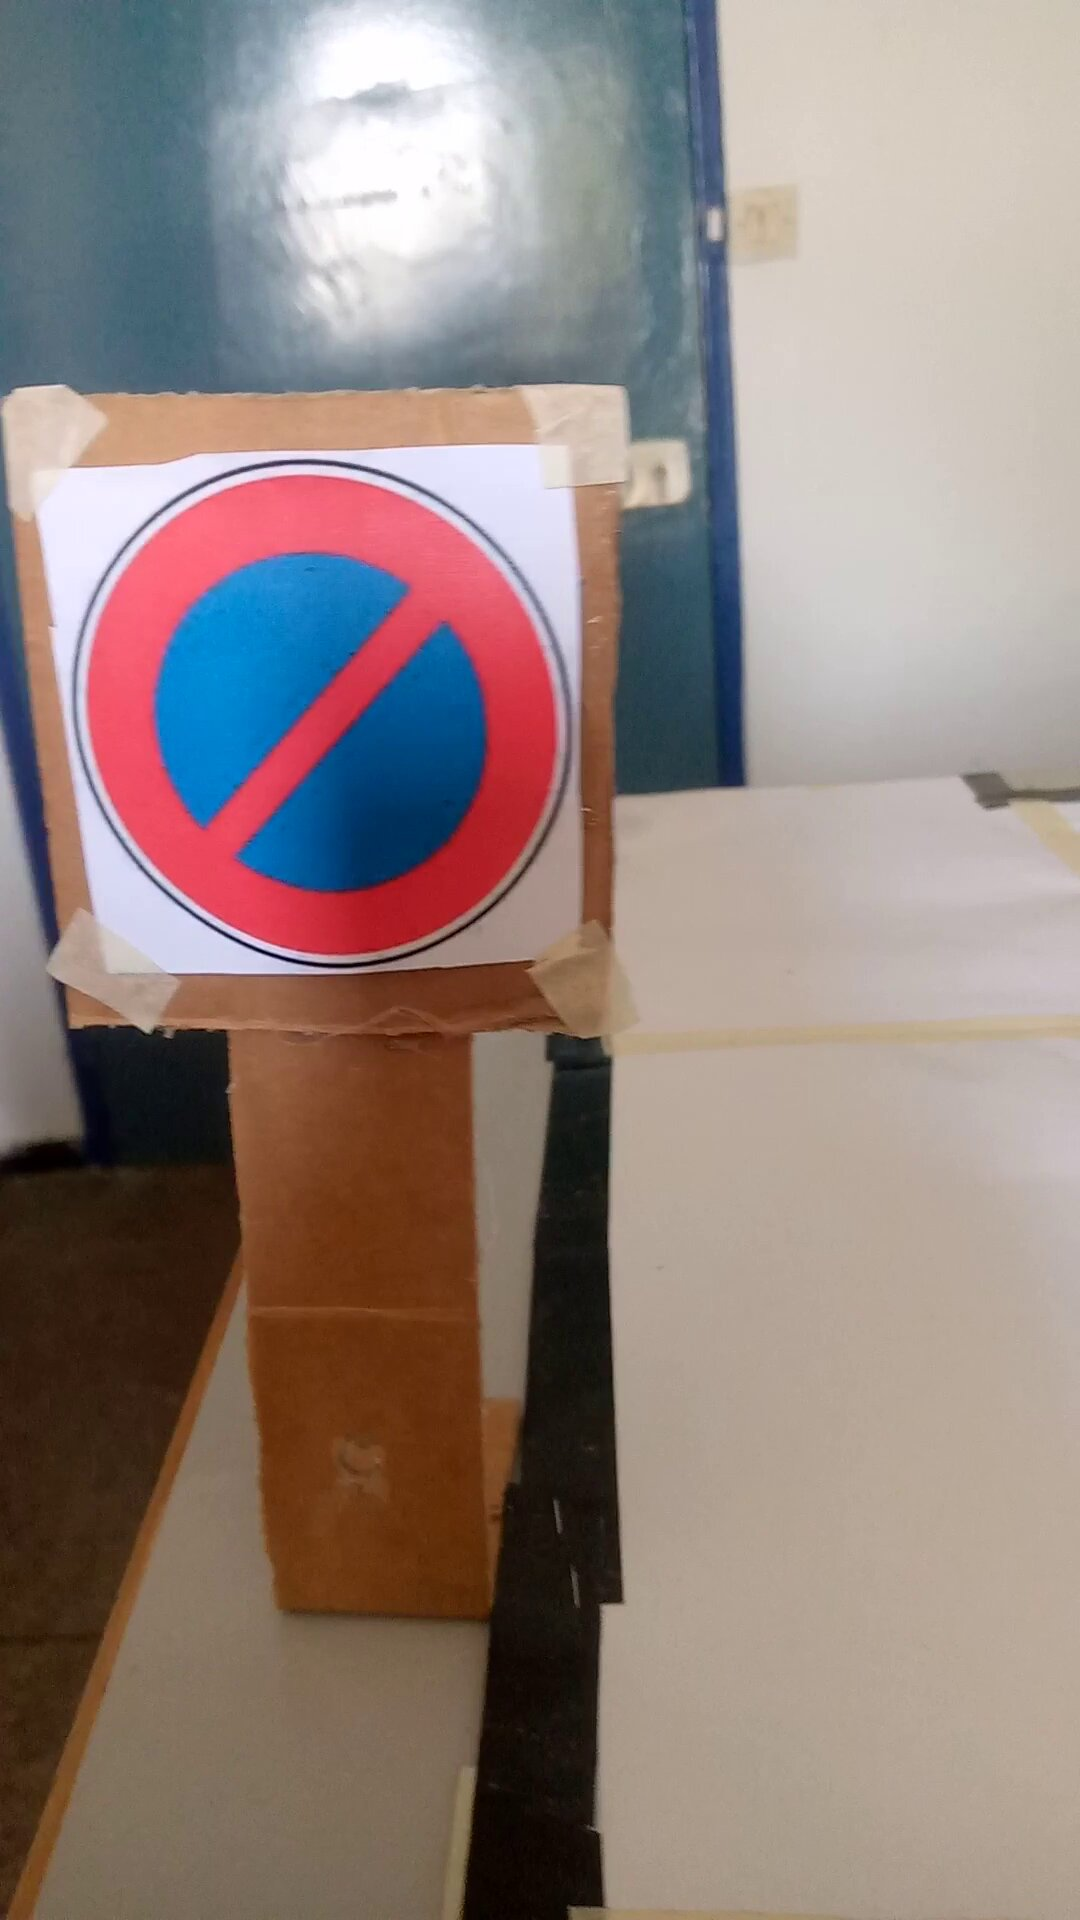panel110: (18, 460, 593, 977)
